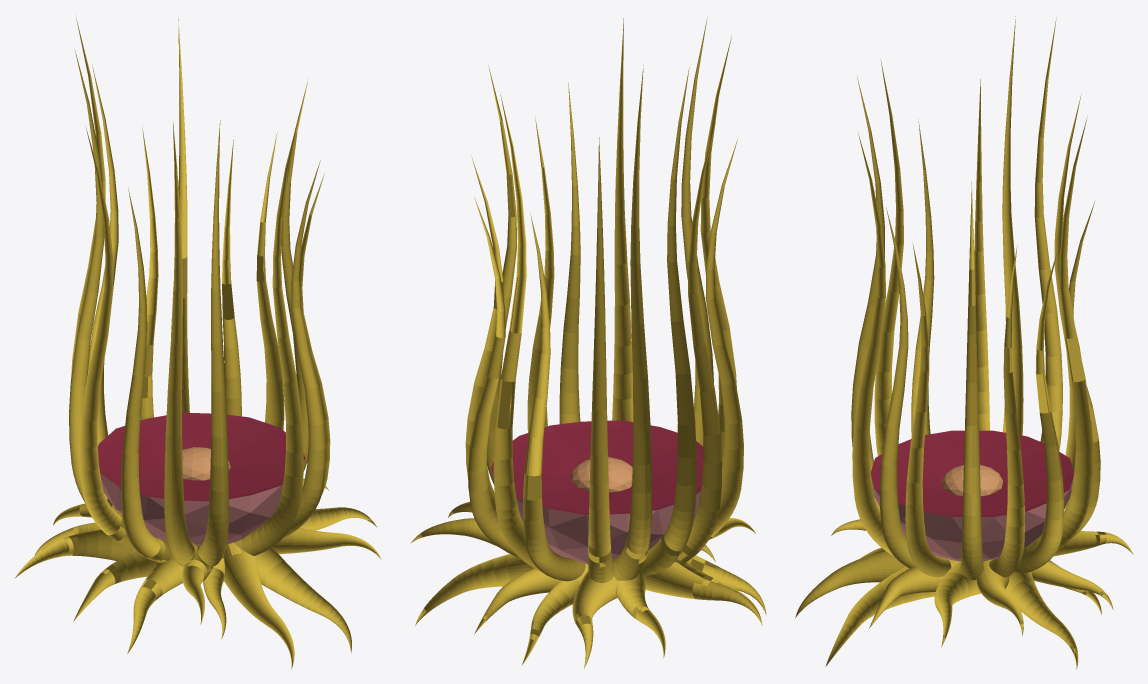
File: Flora_Slings3.fbx
3 renders of one model, left to right at view 1: azimuth 30°, elevation 25°; view 2: azimuth 150°, elevation 25°; view 3: azimuth 270°, elevation 25°, orthographic. The views are drawn at different scales.
Parts seen in each view (by area): view 1: Upper_Tentacles, Lower_Tentacles, Inner, Flora1, Center; view 2: Upper_Tentacles, Lower_Tentacles, Inner, Flora1, Center; view 3: Upper_Tentacles, Lower_Tentacles, Inner, Flora1, Center.
Boxes of the visible parts, x1=… form: Upper_Tentacles: x1=69, y1=17, x2=330, y2=566; Lower_Tentacles: x1=14, y1=479, x2=381, y2=669; Inner: x1=97, y1=412, x2=305, y2=501; Flora1: x1=100, y1=459, x2=304, y2=546; Center: x1=182, y1=447, x2=230, y2=480; Upper_Tentacles: x1=465, y1=18, x2=743, y2=582; Lower_Tentacles: x1=410, y1=502, x2=766, y2=668; Inner: x1=491, y1=420, x2=703, y2=514; Flora1: x1=491, y1=470, x2=700, y2=564; Center: x1=570, y1=457, x2=632, y2=492; Upper_Tentacles: x1=851, y1=16, x2=1100, y2=579; Lower_Tentacles: x1=795, y1=519, x2=1133, y2=669; Inner: x1=871, y1=430, x2=1073, y2=516; Flora1: x1=871, y1=478, x2=1073, y2=561; Center: x1=941, y1=465, x2=1002, y2=496.
Bounding box in the file's own units: 271 × 465 × 247.
